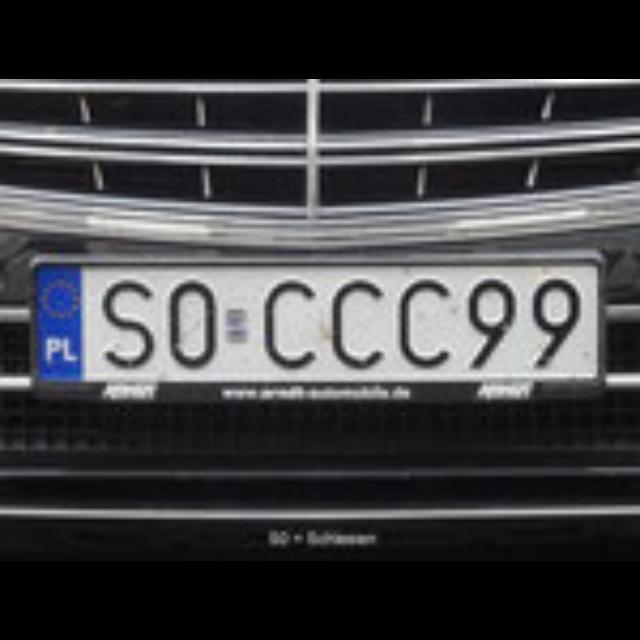license-plates: (35, 263, 601, 383)
